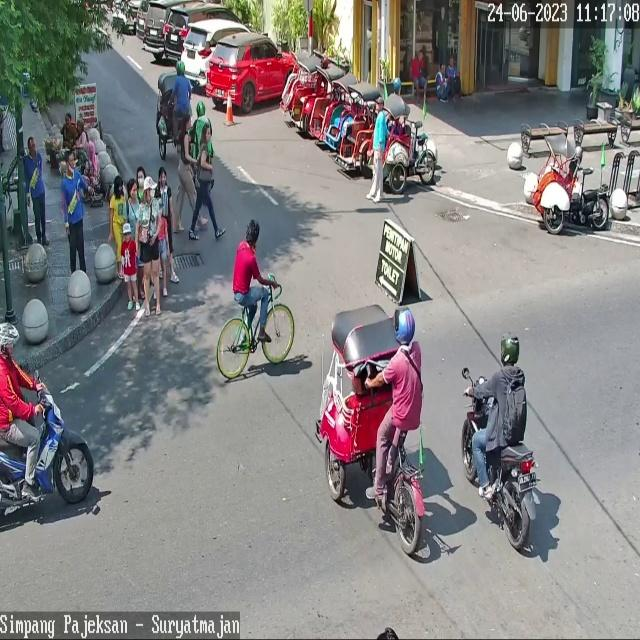bus: (462, 375, 542, 550), (0, 381, 94, 520)
motorcycle: (206, 33, 300, 111), (163, 4, 246, 64), (181, 21, 252, 87), (143, 0, 169, 53)
